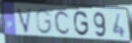4: (112, 13, 126, 40)
9: (93, 11, 107, 38)
C: (53, 9, 72, 36)
G: (35, 9, 53, 36), (73, 10, 90, 37)
V: (15, 7, 34, 34)
